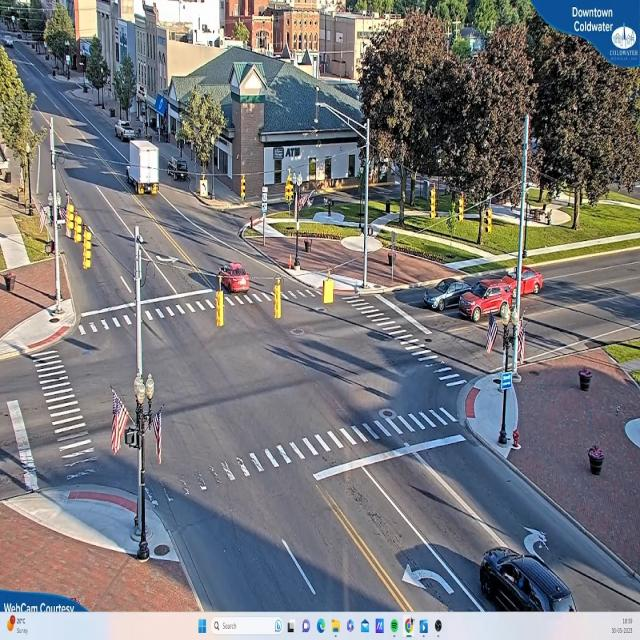car: (475, 550, 579, 612), (456, 278, 512, 325), (506, 258, 543, 300), (420, 278, 464, 313), (218, 261, 251, 295), (116, 121, 135, 141)
truck: (125, 138, 162, 198)
